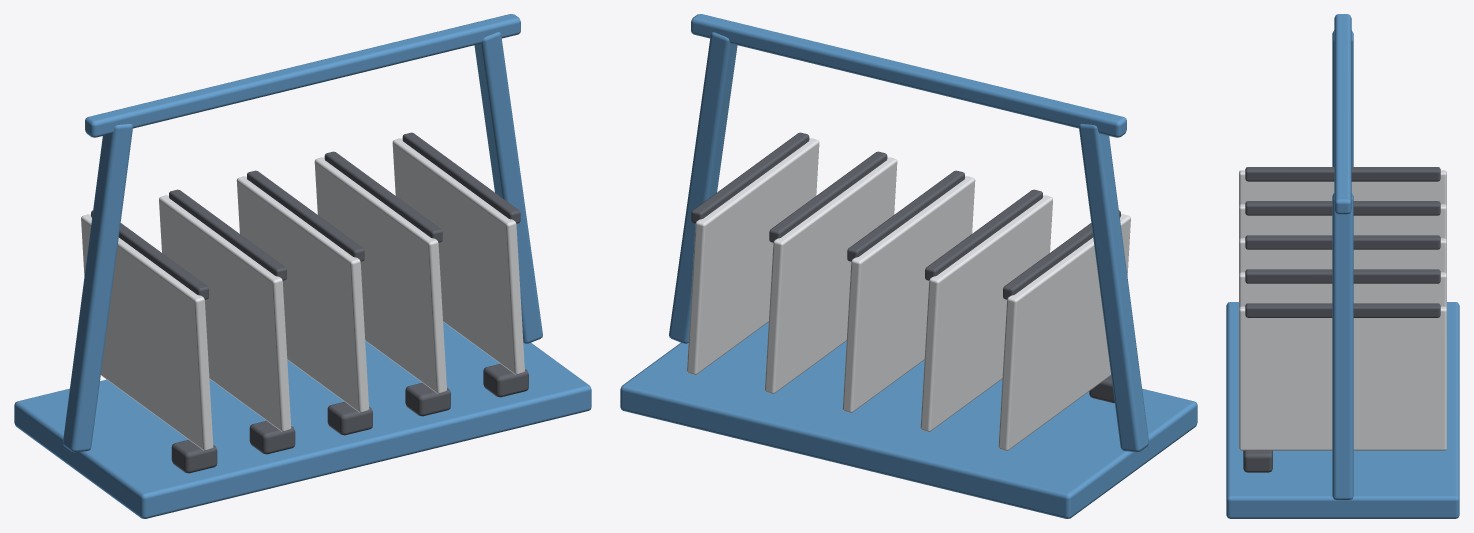
Rendered from stamped-door-panel-rack.glb.
The picture shows the model from 3 angles, left to right: view 1: azimuth 30°, elevation 25°; view 2: azimuth 150°, elevation 25°; view 3: azimuth 270°, elevation 25°; orthographic projection. The views are drawn at different scales.
Parts seen in each view (by area): view 1: stamped-door-panel-rack; view 2: stamped-door-panel-rack; view 3: stamped-door-panel-rack.
Boxes of the visible parts, left/top/right/bottom form: stamped-door-panel-rack: left=14, top=14, right=591, bottom=518; stamped-door-panel-rack: left=620, top=14, right=1197, bottom=518; stamped-door-panel-rack: left=1226, top=14, right=1459, bottom=518.
Size of the model in its own units: 2.3 by 1.64 by 1.1.
